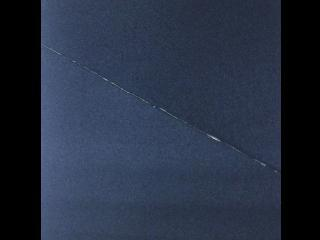crack: (41, 40, 282, 178)
